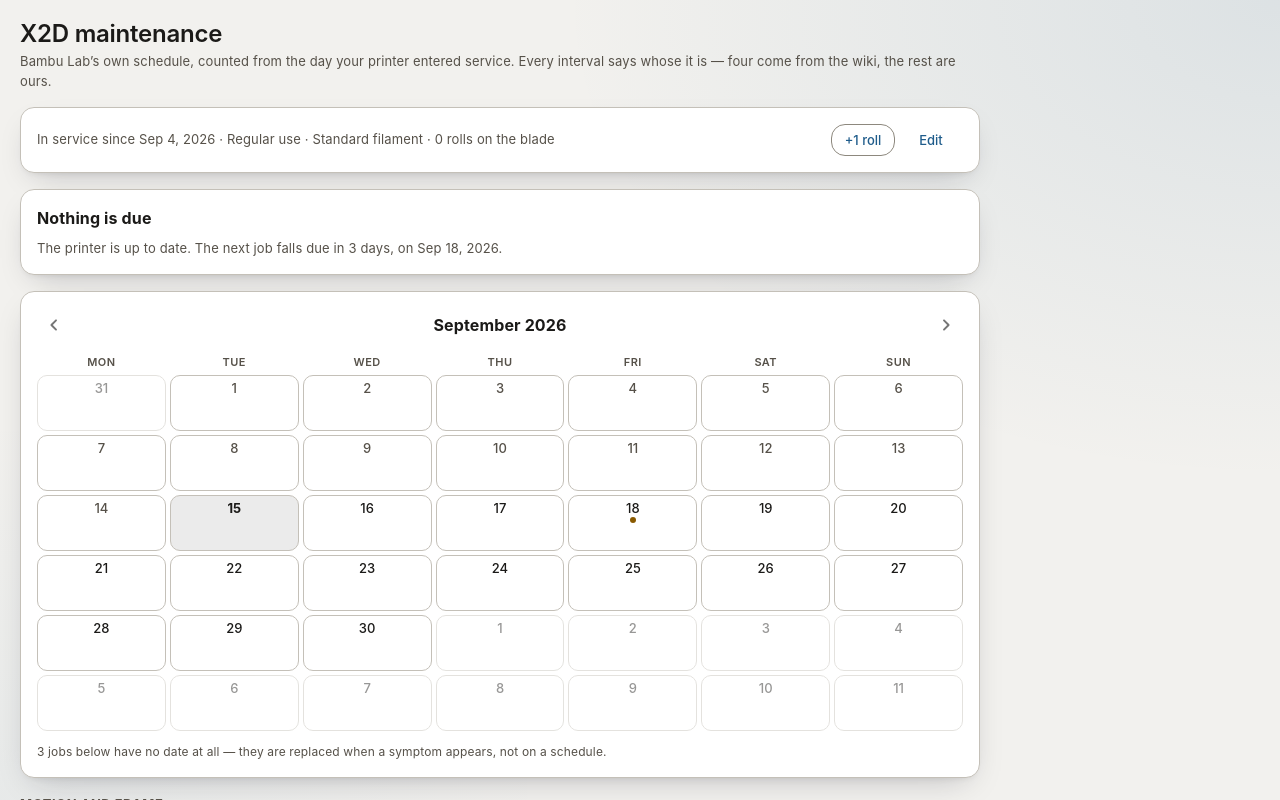
Scenario: choosing a day says what falls due on it
This screenshot has width=1280, height=800.
Click the cell "18".
click(633, 523)  # box x1=568 y1=495 x2=697 y2=551
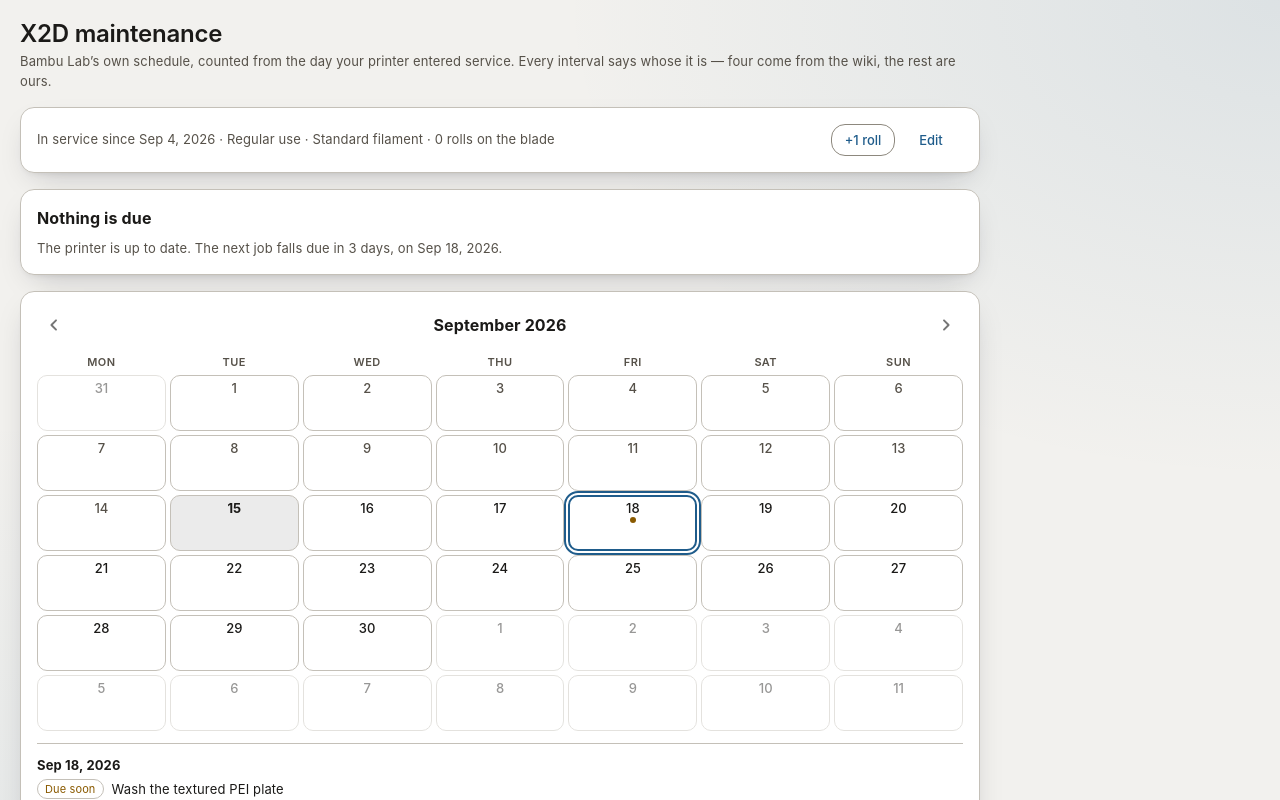
Expected: the text "Wash the textured PEI plate" is shown, x1=112 y1=780 x2=284 y2=799
Click the cell "17".
click(500, 523)  # box x1=436 y1=495 x2=564 y2=551
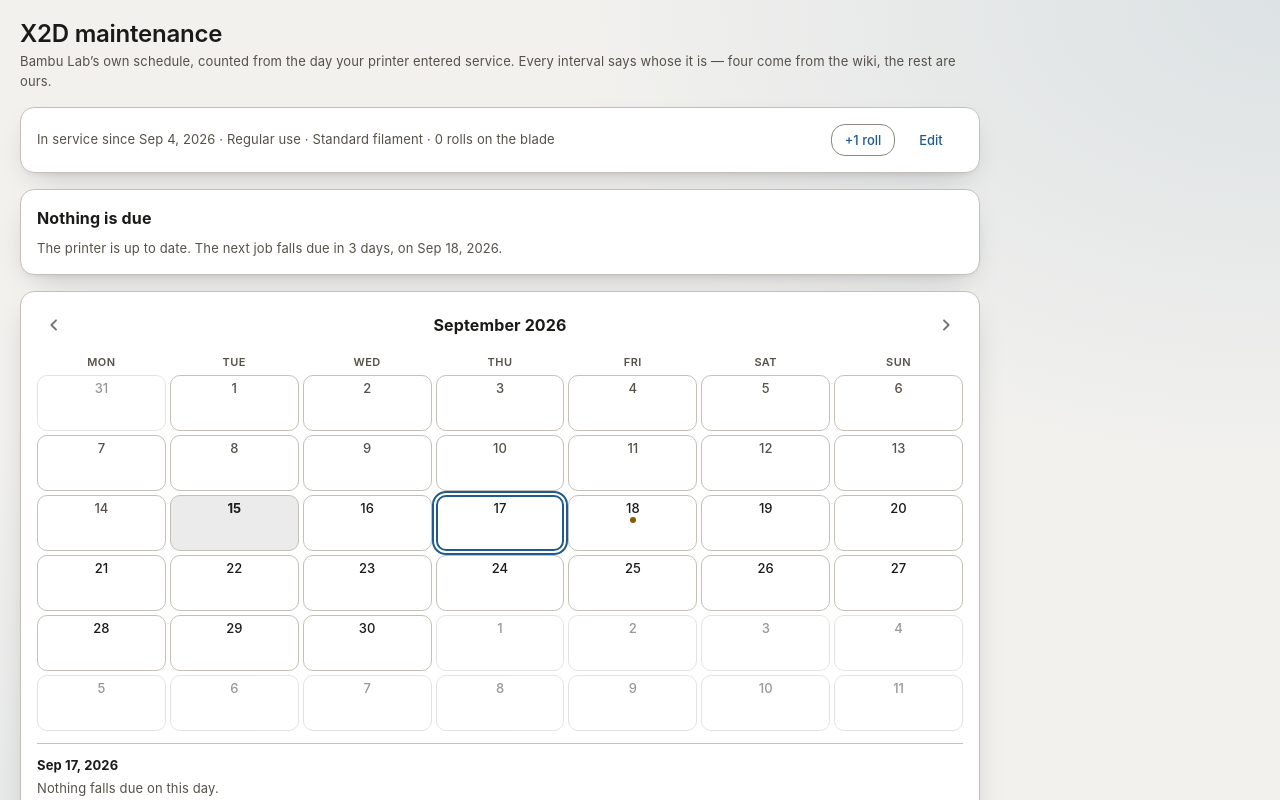
Expected: the text "Nothing falls due on this day." is shown, x1=37 y1=780 x2=219 y2=796
